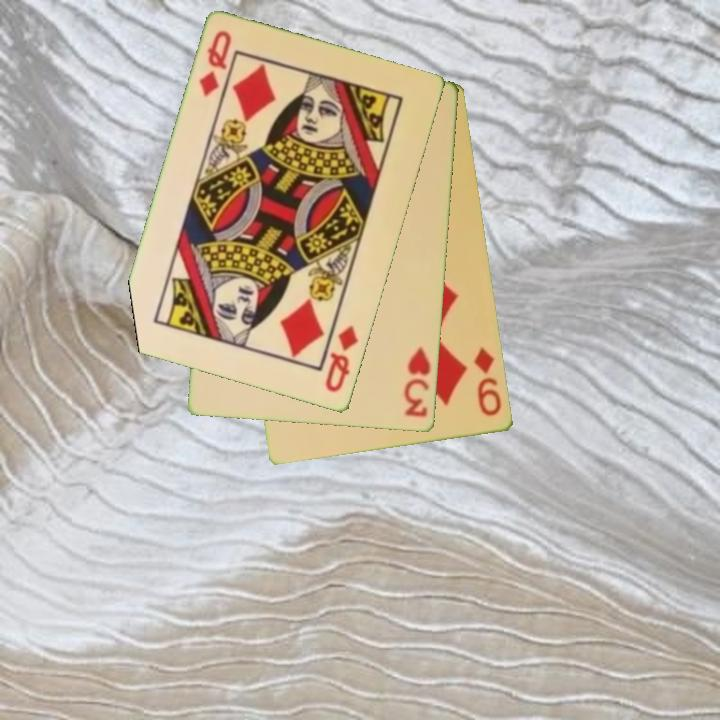3h: (400, 343, 434, 421)
9d: (471, 344, 505, 420)
Qd: (322, 322, 362, 396), (196, 27, 235, 100)
